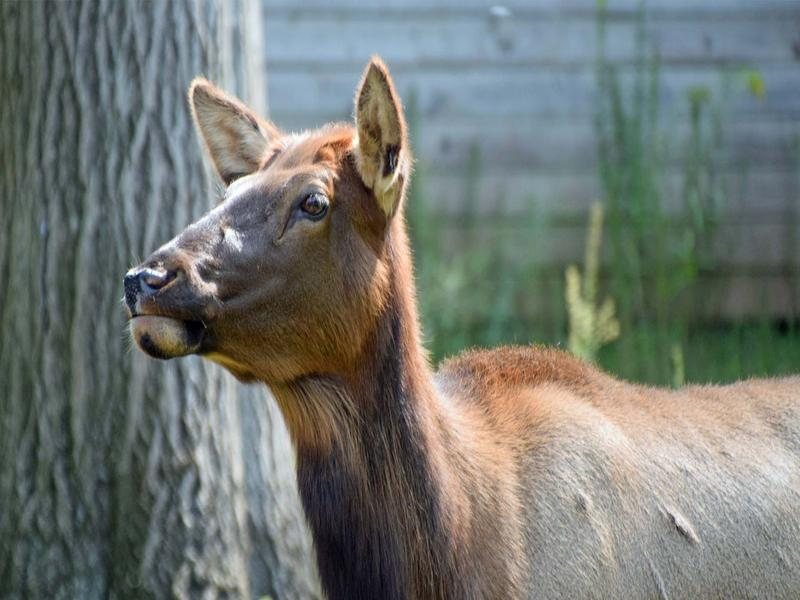elk: (122, 81, 800, 600)
